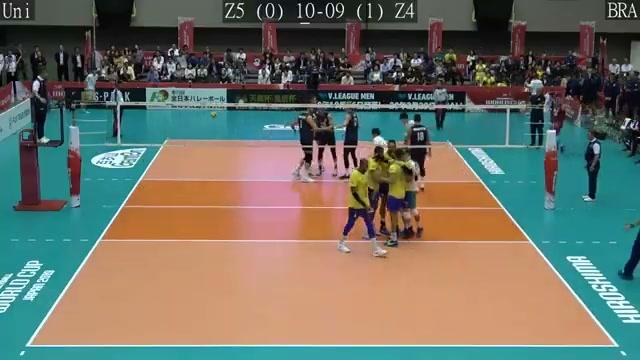ball: (209, 109, 221, 120)
